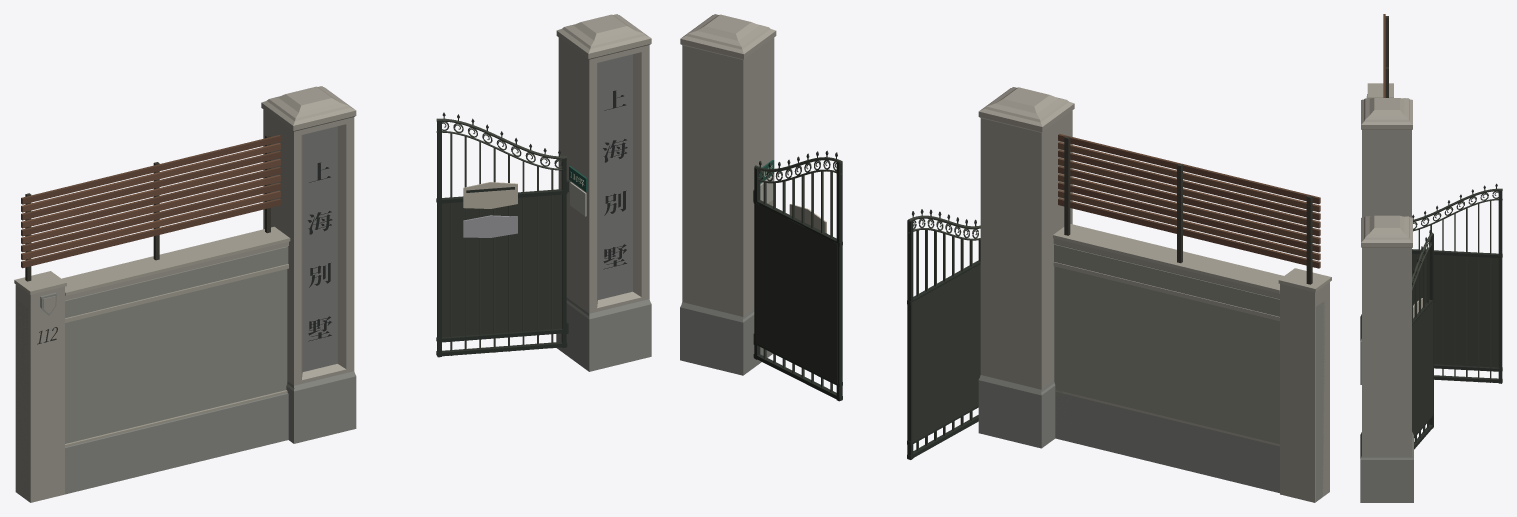
File: huangpu-shanghai-villas-nanchang-lane-110-inscribed-pier-web.glb
3 views of the same model, side by side, from view 1: azimuth 30°, elevation 25°; view 2: azimuth 150°, elevation 25°; view 3: azimuth 270°, elevation 25° (orthographic). The views are drawn at different scales.
Visible parts, largest first — view 1: 上海别墅南昌路110弄双题名石柱与112号院墙; view 2: 上海别墅南昌路110弄双题名石柱与112号院墙; view 3: 上海别墅南昌路110弄双题名石柱与112号院墙.
Boxes of the visible parts, bbox=[...] form: 上海别墅南昌路110弄双题名石柱与112号院墙: bbox=[14, 14, 651, 502]; 上海别墅南昌路110弄双题名石柱与112号院墙: bbox=[680, 14, 1331, 502]; 上海别墅南昌路110弄双题名石柱与112号院墙: bbox=[1360, 14, 1502, 502].
Bounding box in the file's own units: 7.67 × 3.9 × 1.88.
